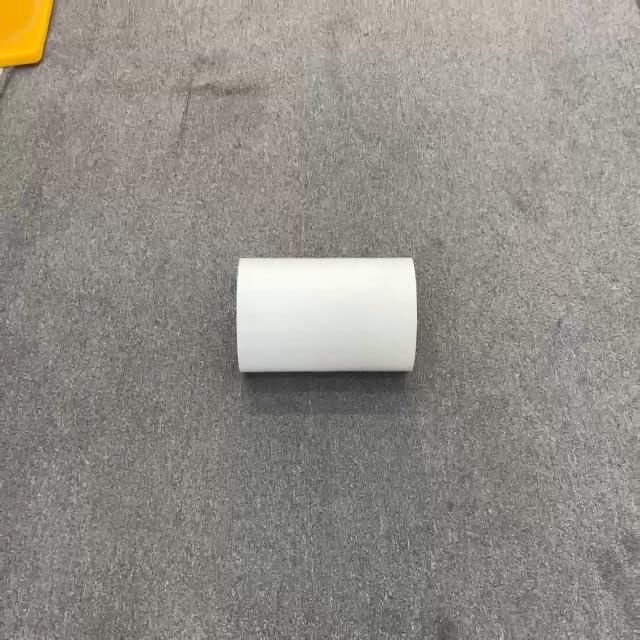coral: (236, 254, 418, 374)
